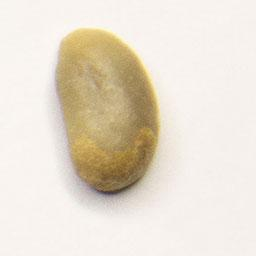longberry: (51, 24, 164, 199)
